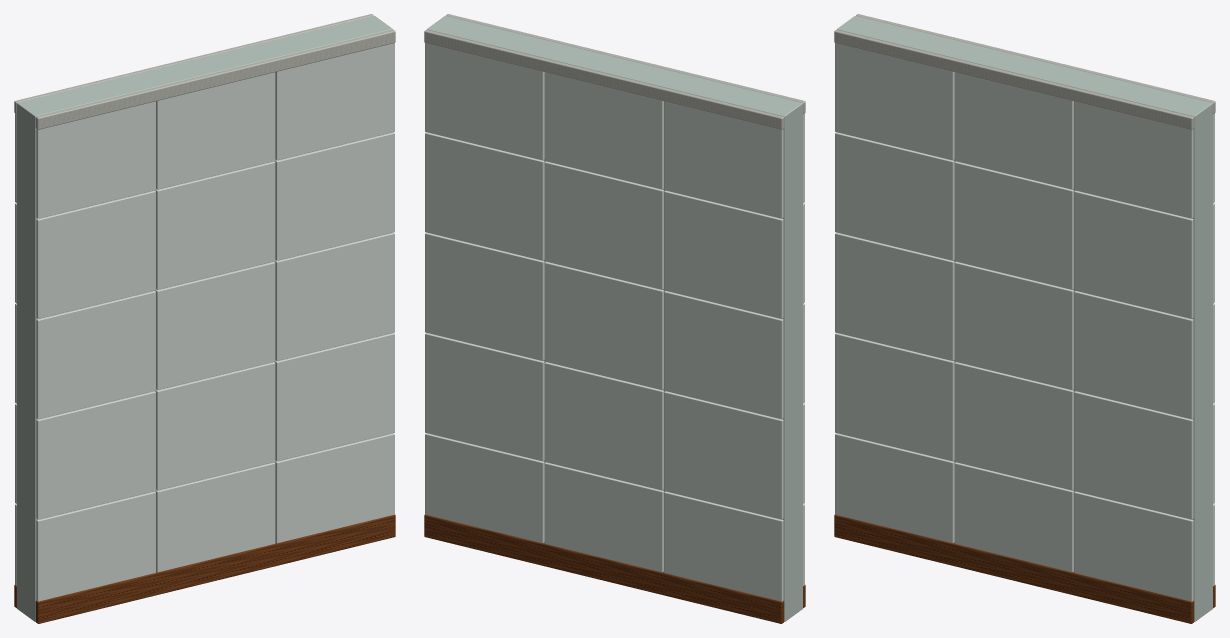
Rendered from liminal-spaces-kit-tiled-wall-9e18940f__25201.glb.
3 renders of one model, left to right at view 1: azimuth 30°, elevation 25°; view 2: azimuth 150°, elevation 25°; view 3: azimuth 330°, elevation 25°, orthographic.
Visible parts, largest first — view 1: tiled-wall; view 2: tiled-wall; view 3: tiled-wall.
Boxes of the visible parts, x1,y1,x2,y2 form: tiled-wall: (14, 14, 395, 623); tiled-wall: (424, 14, 805, 623); tiled-wall: (834, 14, 1215, 623).
Size of the model in its own units: 2 by 2.7 by 0.2361.
Materials: 4 (2 with a texture image).
